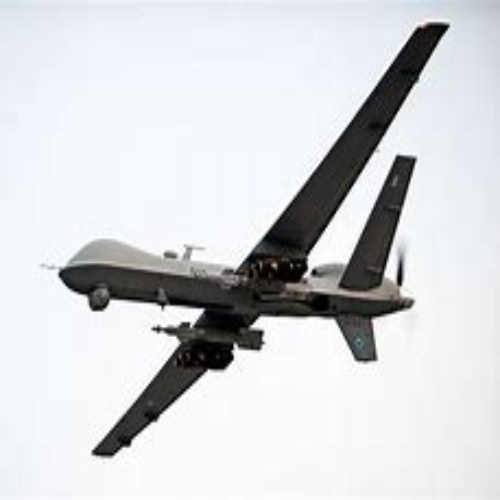uav111: (60, 21, 454, 455)
